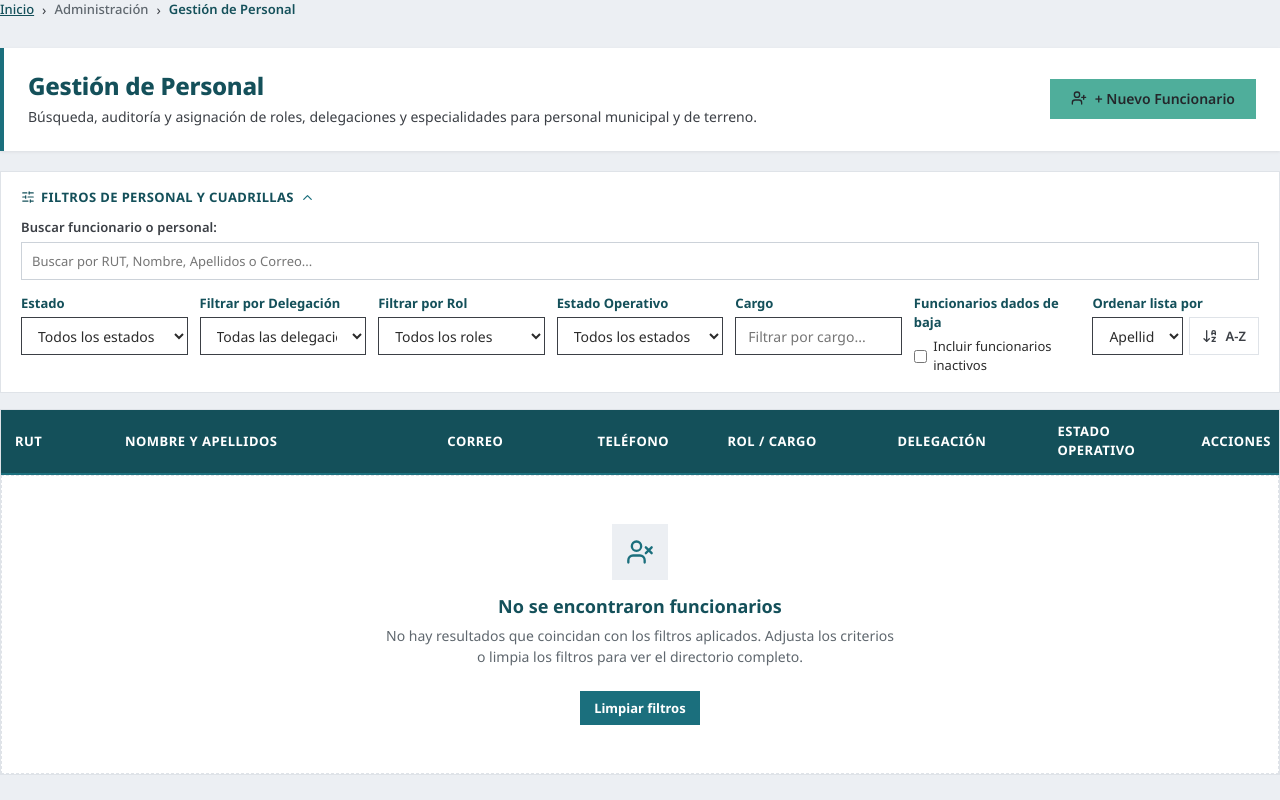
Scenario: AdminEmpleadosPage › debe abrir el modal RegistrarEmpleadoModal al presionar "+ Nuevo Funcionario"
This screenshot has width=1280, height=800.
Expected: the text "Registrar Nuevo Funcionario Municipal" is not shown
Step 1. Click the button "+ Nuevo Funcionario" → [1153, 99], box [1050,79,1256,119]
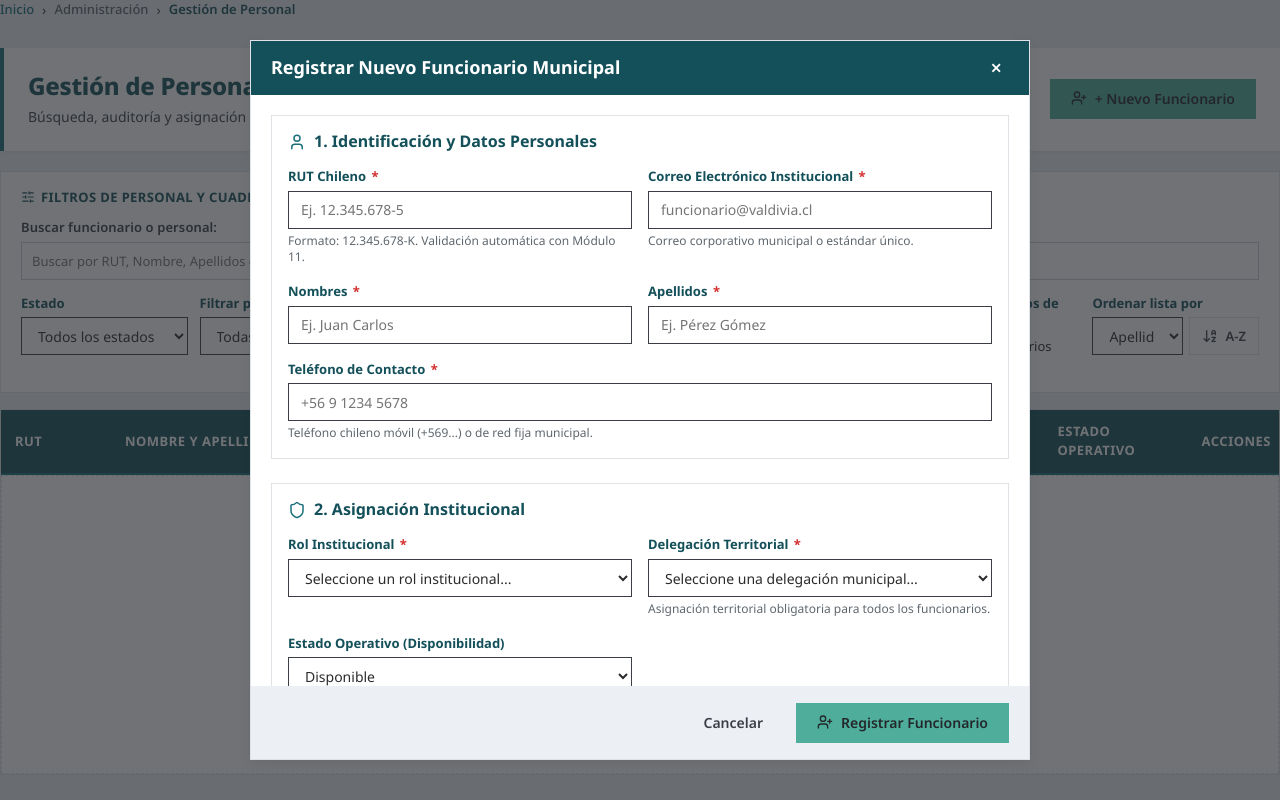
Expected: the heading "Registrar Nuevo Funcionario Municipal" is shown, [271,57,620,79]
